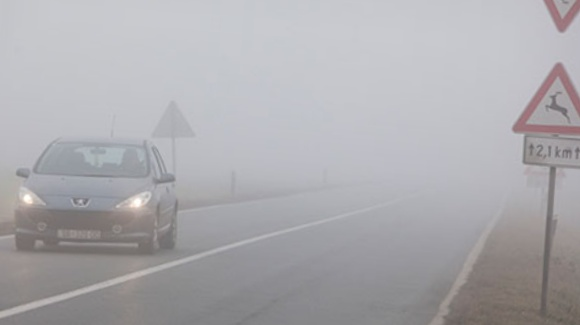Animal Crossing: (509, 56, 579, 136)
